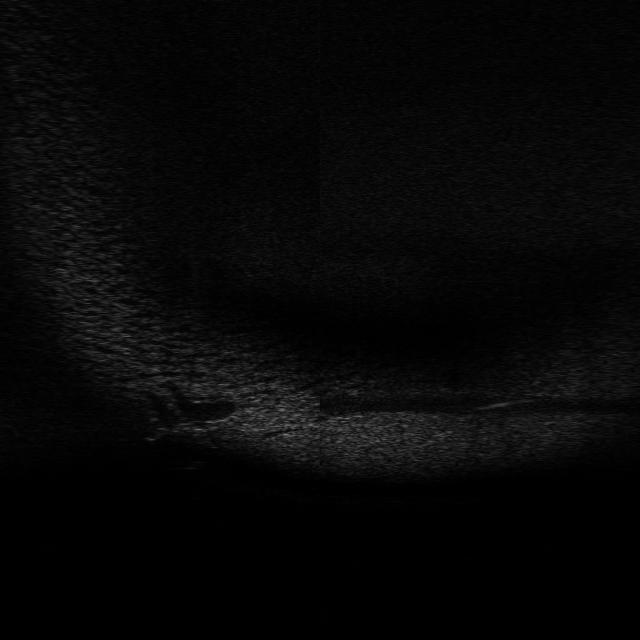plane: (142, 411, 224, 446)
